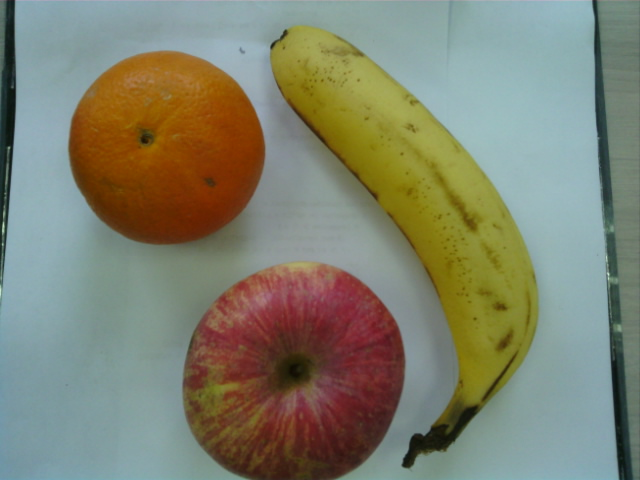normal_apple: (180, 257, 407, 480)
normal_banana: (267, 25, 543, 427)
normal_orange: (65, 50, 263, 246)
